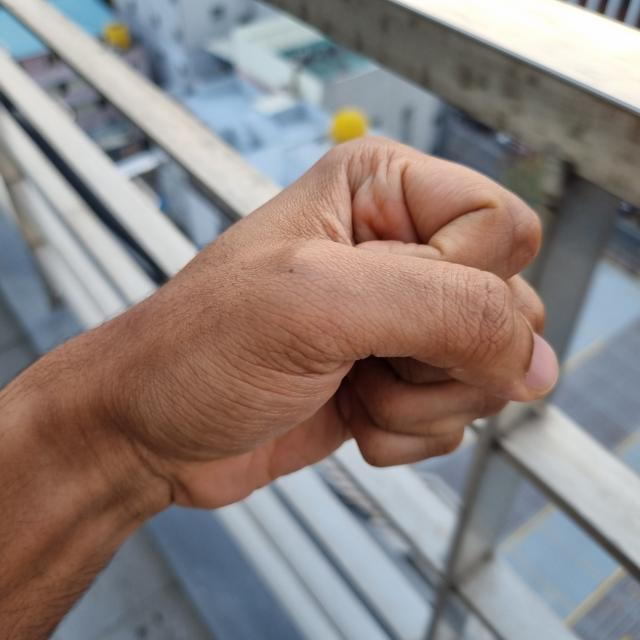Rock: (56, 136, 555, 509)
